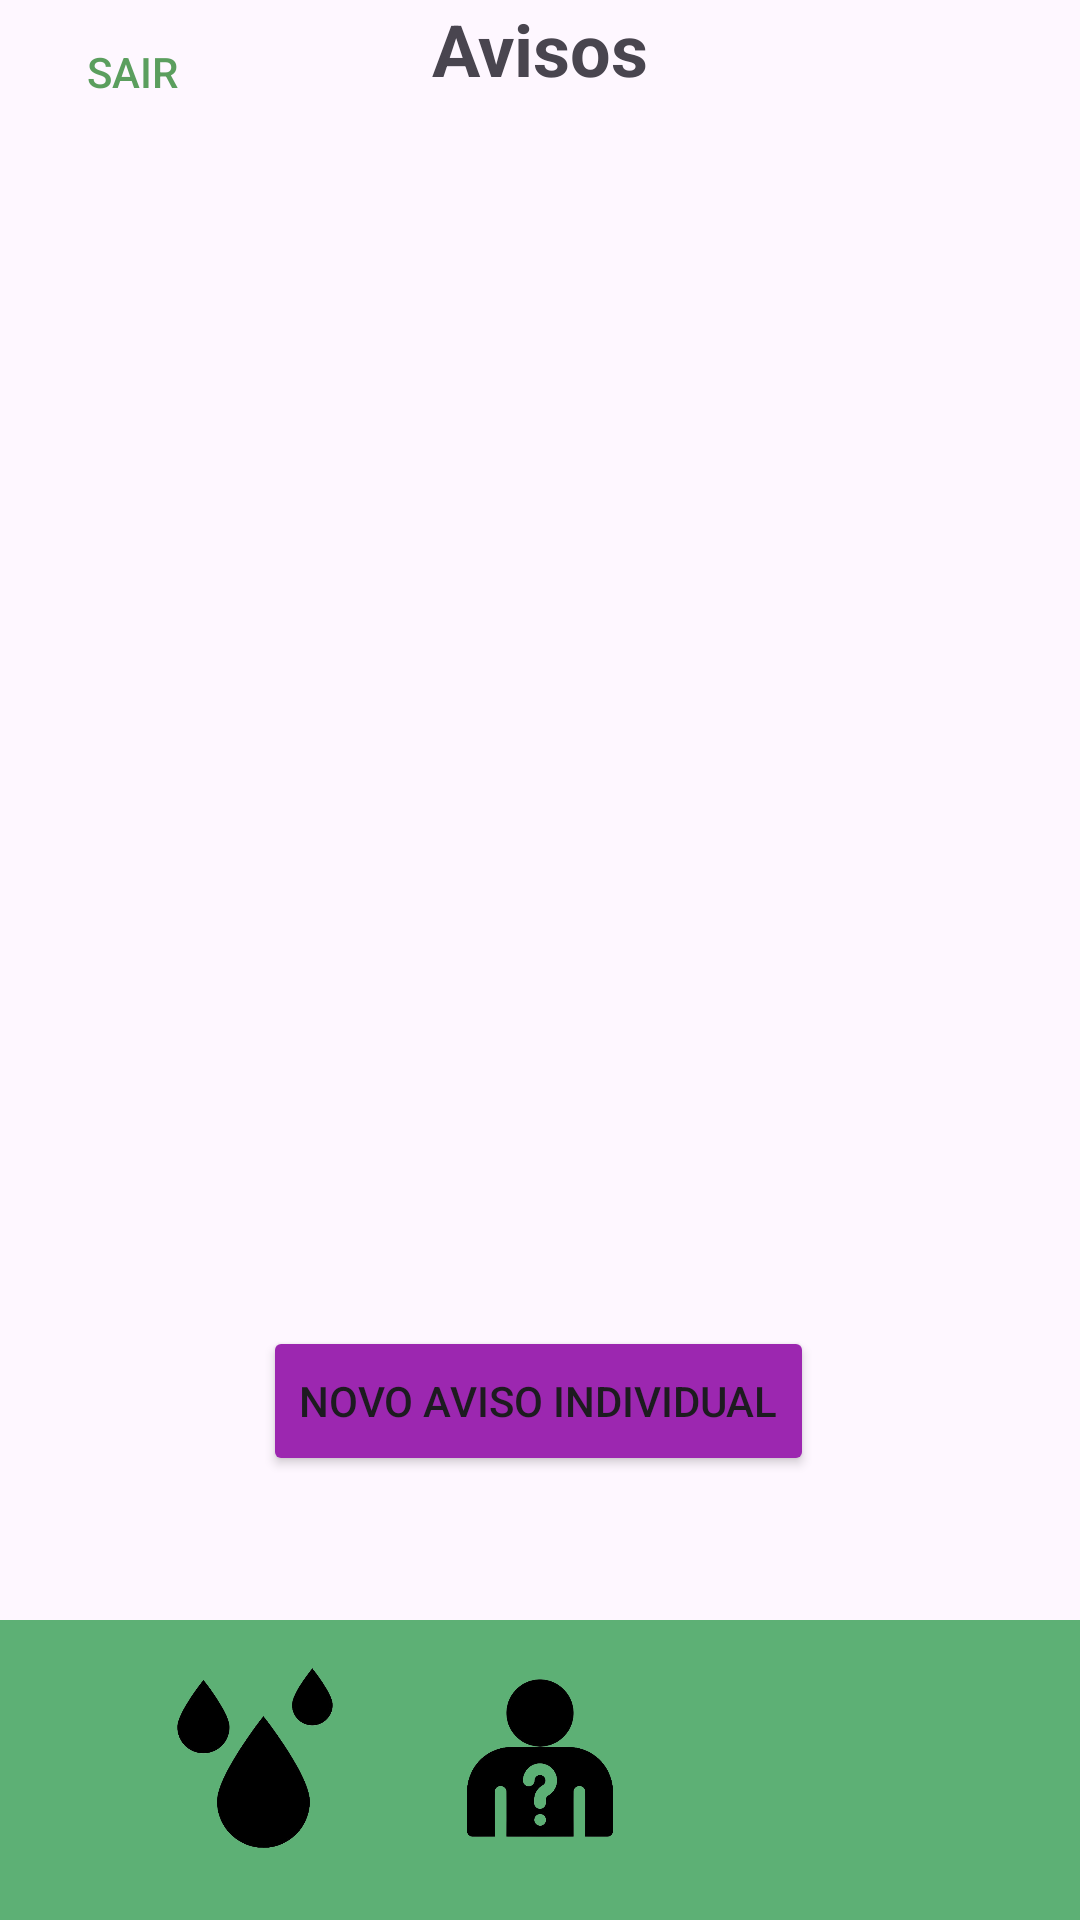

Point at icon controls on the screen. Image size 1080px×1920px, points as (x=x, y=y).
rega: (x=255, y=1758)
visitante: (x=540, y=1758)
